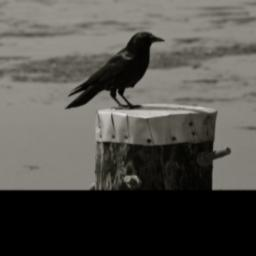Crow: (62, 29, 166, 113)
